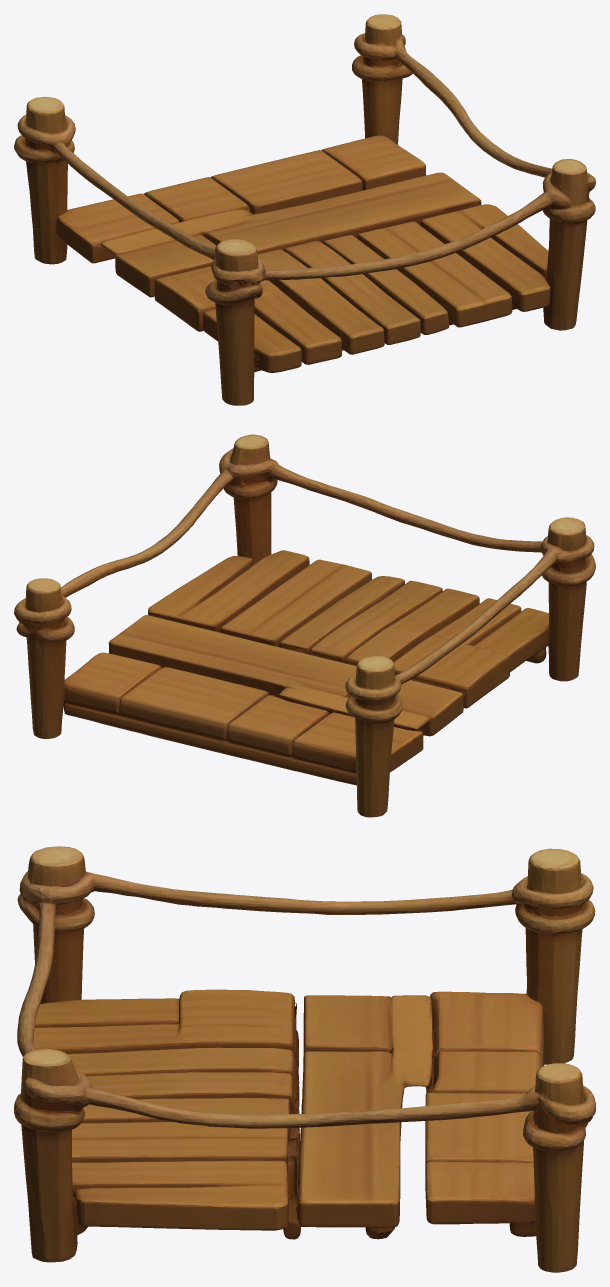
Rendered from dock_dead-end.glb.
3 renders of one model, top to bottom at view 1: azimuth 30°, elevation 25°; view 2: azimuth 150°, elevation 25°; view 3: azimuth 270°, elevation 25°, orthographic. The views are drawn at different scales.
Visible parts, largest first — view 1: world; view 2: world; view 3: world.
Boxes of the visible parts, <box> form: world: <box>14,14,595,405</box>; world: <box>14,434,595,817</box>; world: <box>14,846,595,1272</box>.
Bounding box in the file's own units: 0.9994 × 0.3822 × 0.9992.
1 material, 1 textured.
